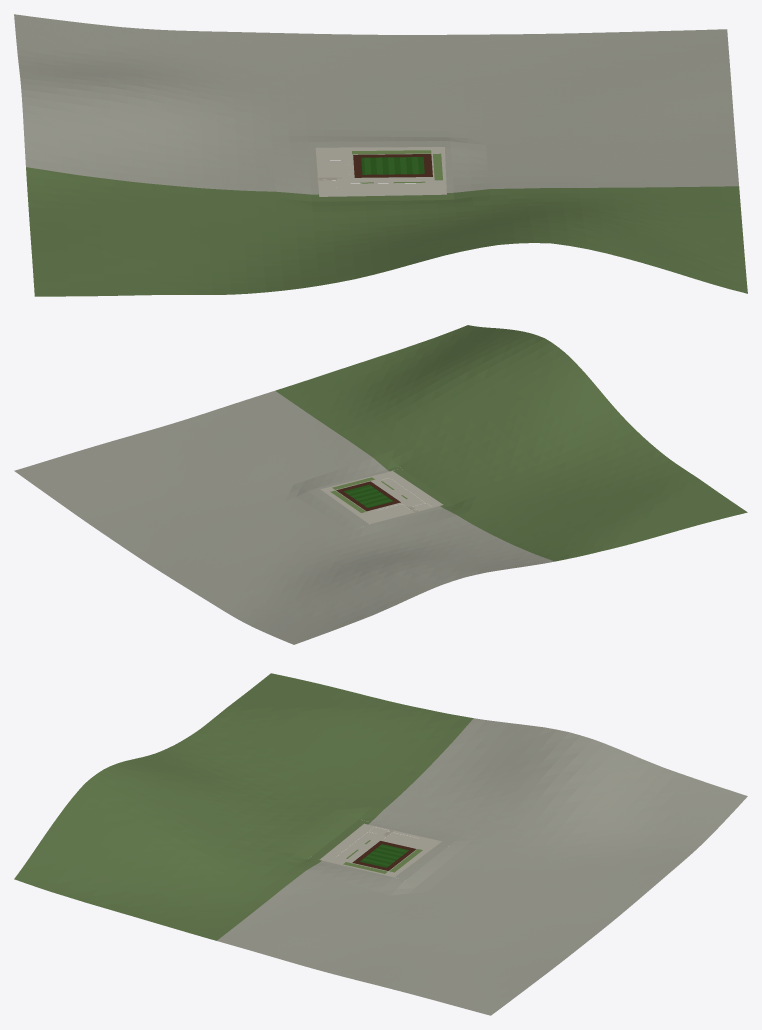
3 views of the same model, one above another, from view 1: azimuth 30°, elevation 25°; view 2: azimuth 150°, elevation 25°; view 3: azimuth 270°, elevation 25° (orthographic). The views are drawn at different scales.
Visible parts, largest first — view 1: ground_context-estimated, surface_school-paved-walk, surface_running-track, surface_sports-field, surface_underbuilding-main, surface_main-forecourt; view 2: ground_context-estimated, surface_school-paved-walk; view 3: ground_context-estimated, surface_school-paved-walk.
Part boxes in pixels (box(x1,y1,x2,y2)): ground_context-estimated: box(14, 14, 747, 296); surface_school-paved-walk: box(315, 147, 446, 196); surface_running-track: box(353, 154, 432, 177); surface_sports-field: box(361, 157, 424, 174); surface_underbuilding-main: box(338, 183, 429, 189); surface_main-forecourt: box(337, 177, 429, 183); ground_context-estimated: box(14, 325, 747, 644); surface_school-paved-walk: box(320, 471, 443, 524); ground_context-estimated: box(14, 673, 747, 1015); surface_school-paved-walk: box(319, 823, 441, 877).
Size of the model in its own units: 975 by 103 by 975.
8 materials, 8 textured.
